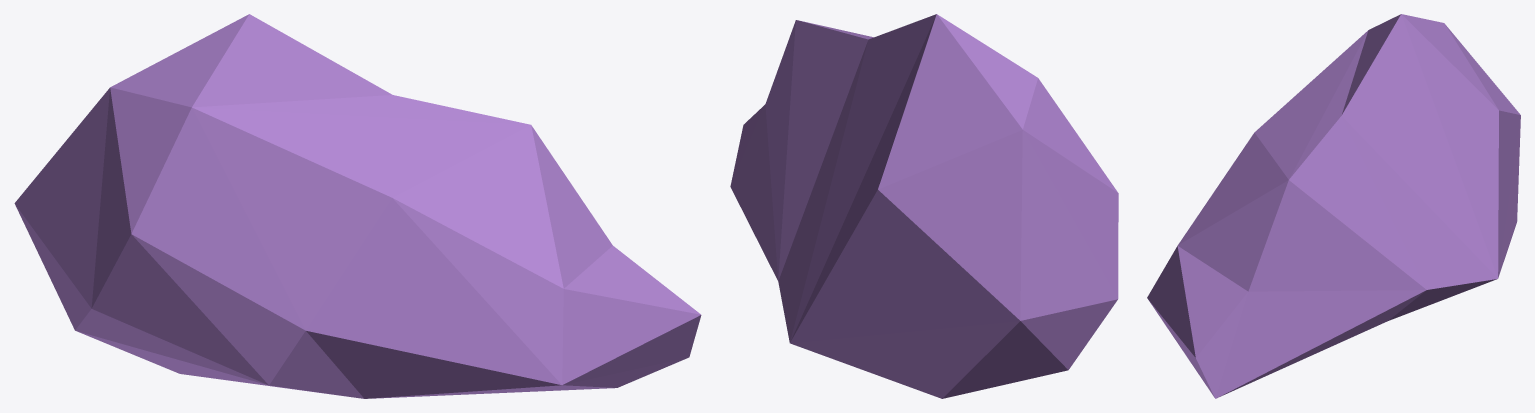
The model's file is rock4.fbx.
3 renders of one model, left to right at view 1: azimuth 30°, elevation 25°; view 2: azimuth 150°, elevation 25°; view 3: azimuth 270°, elevation 25°, orthographic. The views are drawn at different scales.
Visible parts, largest first — view 1: rock2.001; view 2: rock2.001; view 3: rock2.001.
Part boxes in pixels (x1,y1,x2,y2): rock2.001: [14, 14, 701, 398]; rock2.001: [730, 14, 1118, 398]; rock2.001: [1147, 14, 1520, 398].
Bounding box in the file's own units: 351 × 242 × 297.
